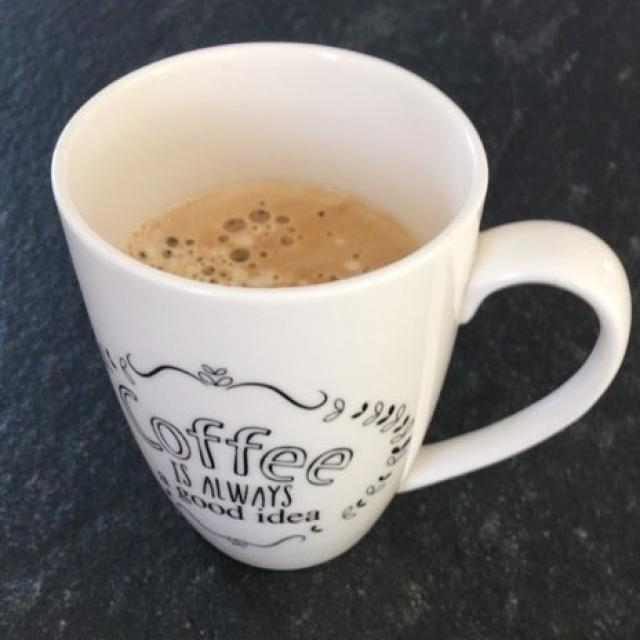coffee: (123, 183, 416, 285)
